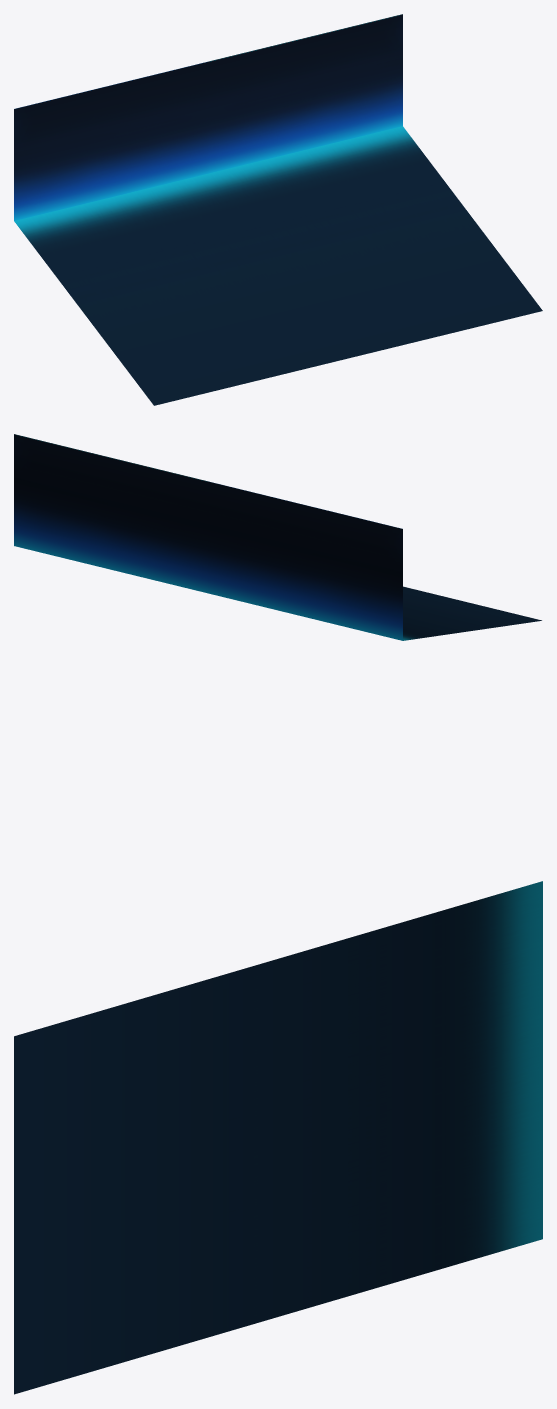
File: battle_201@skin.FBX
3 views of the same model, one above another, from view 1: azimuth 30°, elevation 25°; view 2: azimuth 150°, elevation 25°; view 3: azimuth 270°, elevation 25° (orthographic). The views are drawn at different scales.
Parts seen in each view (by area): view 1: body; view 2: body; view 3: body.
Boxes of the visible parts, x1,y1,x2,y2 form: body: [14, 14, 542, 405]; body: [14, 434, 541, 640]; body: [14, 881, 542, 1394].
Size of the model in its own units: 2008 by 959 by 1253.
